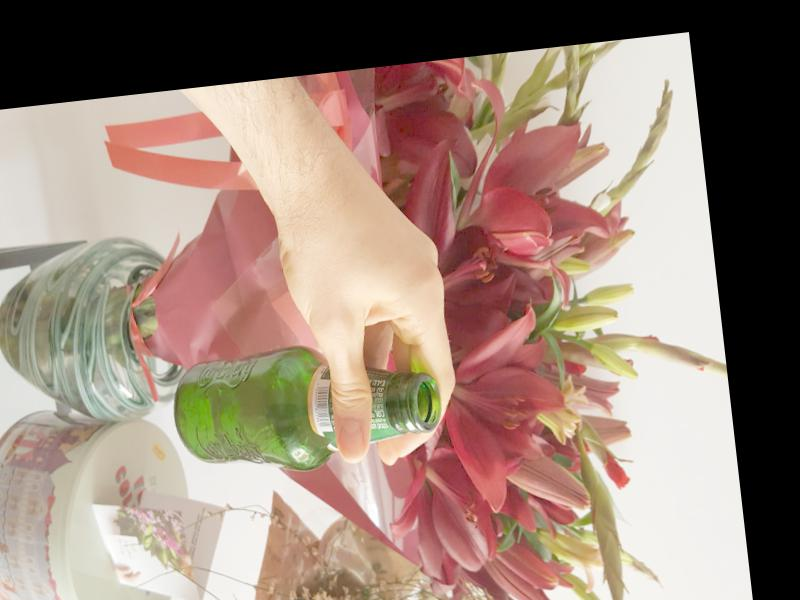Beer: (168, 335, 444, 484)
